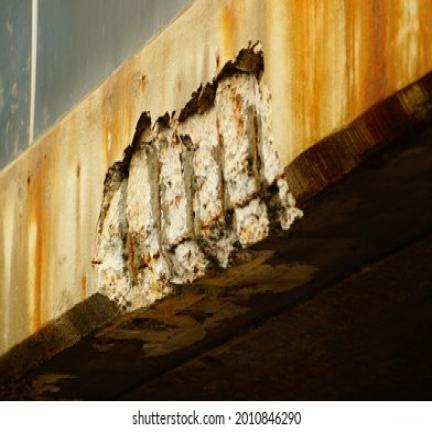besi_tidak_karat: (94, 47, 303, 315)
karat: (287, 0, 431, 205), (100, 54, 141, 167), (27, 136, 47, 336)
